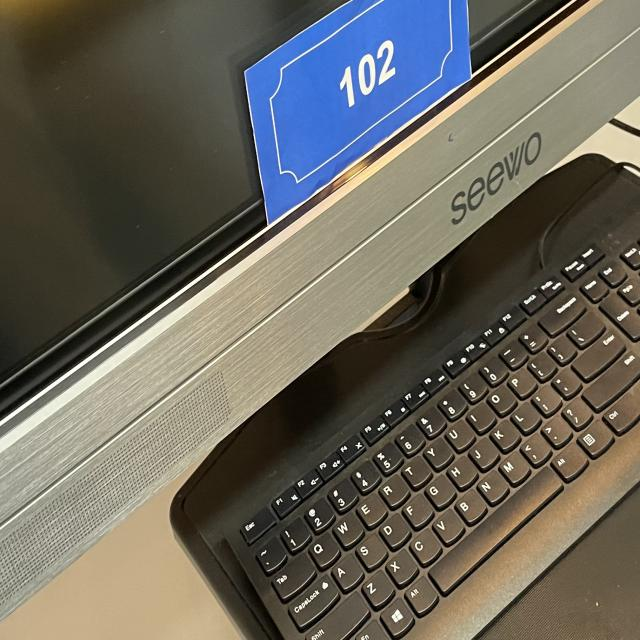Card: (225, 0, 491, 237)
